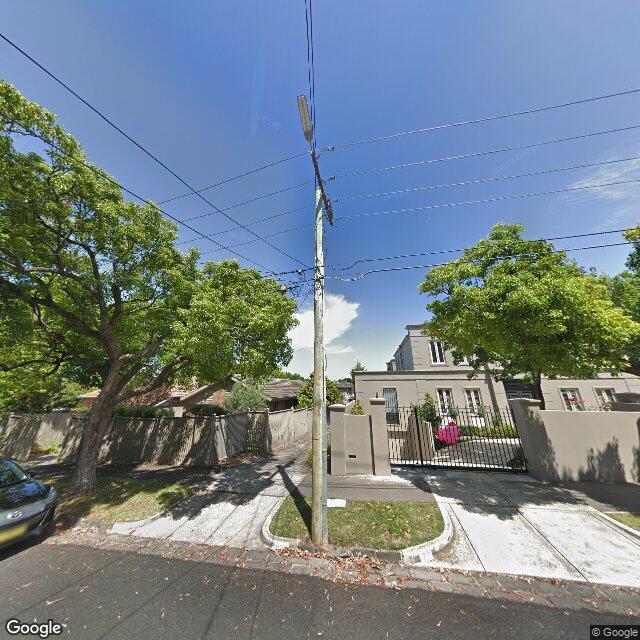crossarm: (311, 147, 343, 226)
streetlight: (296, 93, 314, 151)
timber-pole: (312, 189, 328, 542)
